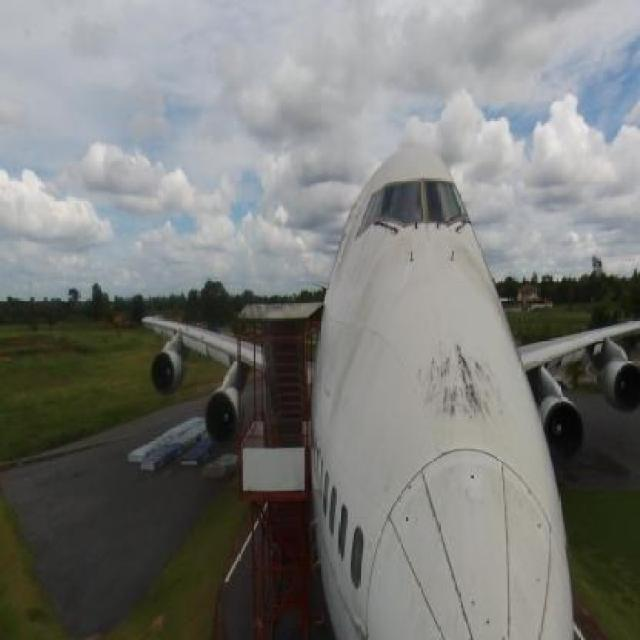Rust: (411, 335, 503, 436), (454, 244, 495, 324)
Scartch: (328, 240, 387, 372)
